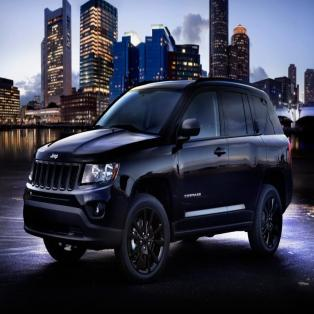Auto: (23, 77, 293, 288)
